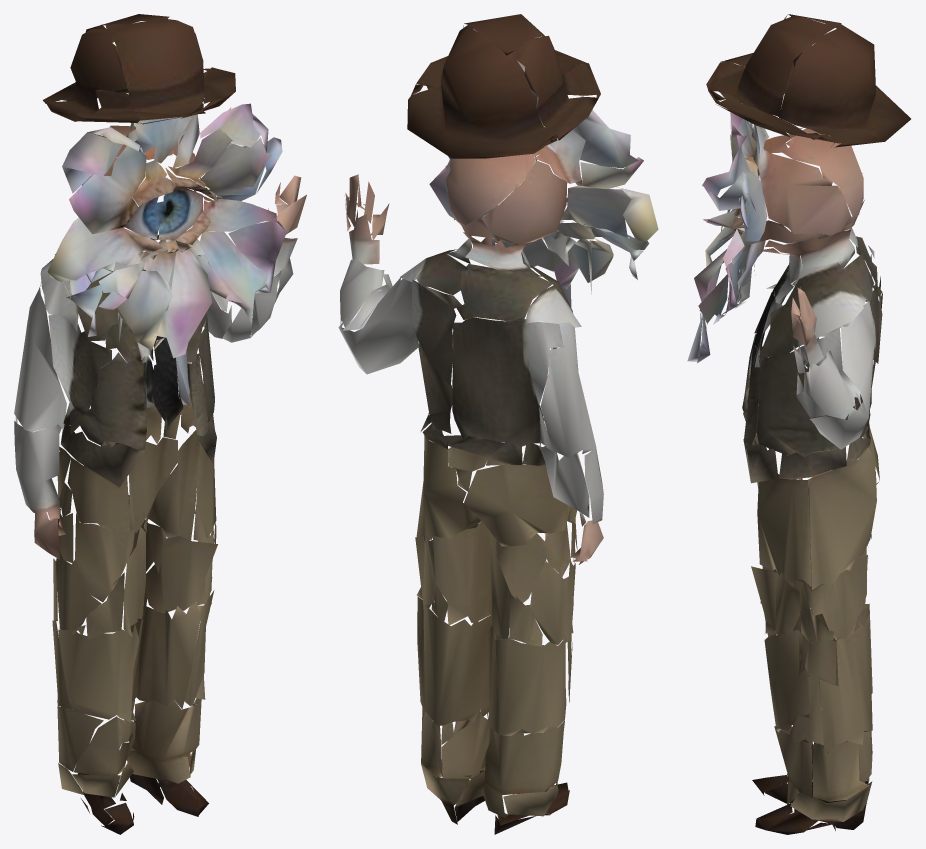
Rendered from crowd_annieh_full.glb.
The picture shows the model from 3 angles, left to right: view 1: azimuth 30°, elevation 25°; view 2: azimuth 150°, elevation 25°; view 3: azimuth 270°, elevation 25°; orthographic projection.
Parts seen in each view (by area): view 1: tripo_node_1126258b-1cb4-43a4-b5b0-aa4036e8409b; view 2: tripo_node_1126258b-1cb4-43a4-b5b0-aa4036e8409b; view 3: tripo_node_1126258b-1cb4-43a4-b5b0-aa4036e8409b.
Boxes of the visible parts, x1,y1,x2,y2 form: tripo_node_1126258b-1cb4-43a4-b5b0-aa4036e8409b: (14,14,306,834); tripo_node_1126258b-1cb4-43a4-b5b0-aa4036e8409b: (338,14,658,834); tripo_node_1126258b-1cb4-43a4-b5b0-aa4036e8409b: (687,14,910,834).
Bounding box in the file's own units: 0.3836 × 1 × 0.2576.
1 material, 1 textured.
